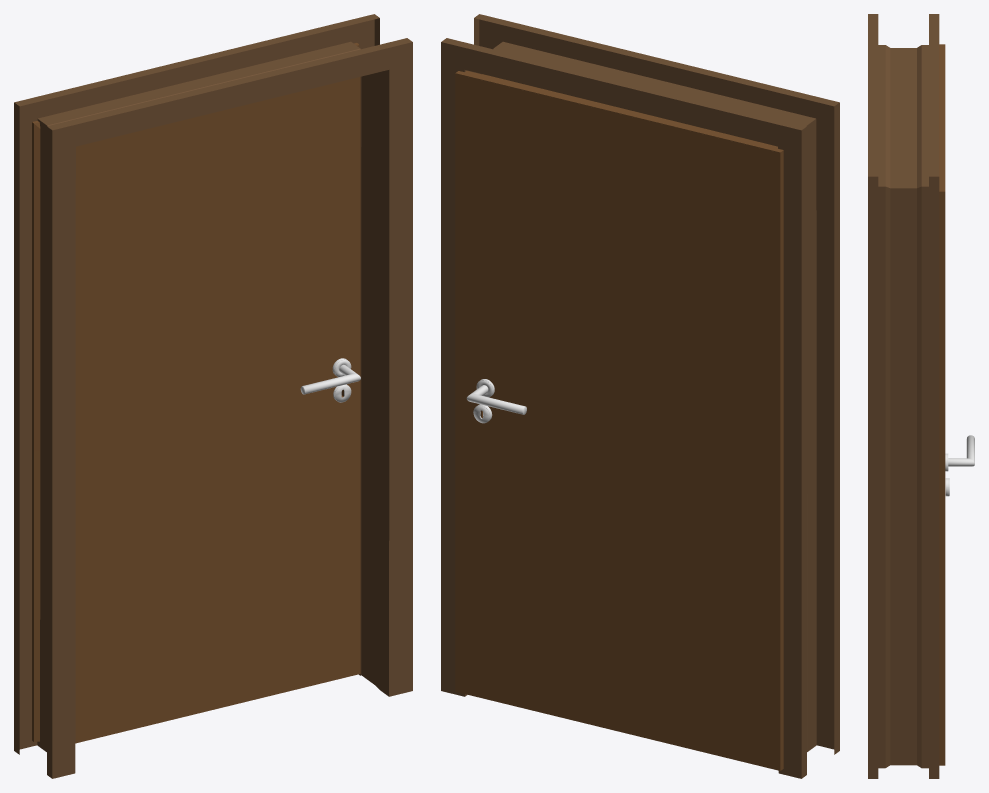
File: Door1.fbx
The picture shows the model from 3 angles, left to right: view 1: azimuth 30°, elevation 25°; view 2: azimuth 150°, elevation 25°; view 3: azimuth 270°, elevation 25°; orthographic projection. The views are drawn at different scales.
Visible parts, largest first — view 1: Door, Doorframe; view 2: Door, Doorframe; view 3: Doorframe, Door, Handle.
Boxes of the visible parts, x1,y1,x2,y2 form: Door: (32,43,360,743); Doorframe: (14,14,412,778); Door: (455,70,783,770); Doorframe: (441,14,839,778); Doorframe: (868,14,939,778); Door: (939,44,945,765); Handle: (948,435,974,466).
Bounding box in the file's own units: 122 × 210 × 33.73.
